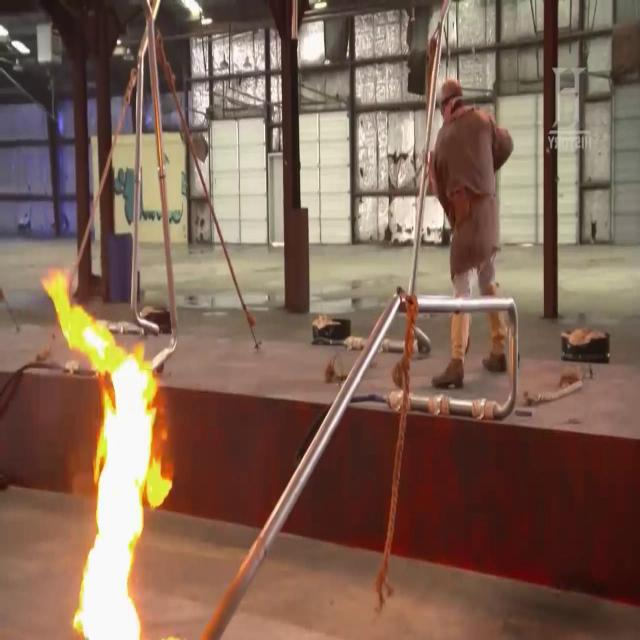fire: (42, 273, 165, 640)
